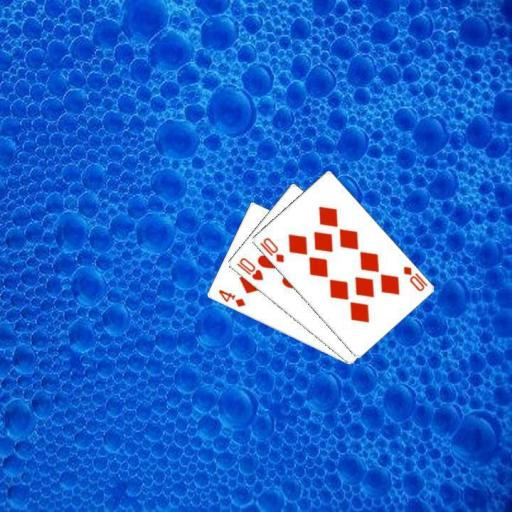card-corner: (233, 255, 265, 282), (257, 234, 285, 264), (400, 263, 428, 293), (215, 286, 247, 308)
